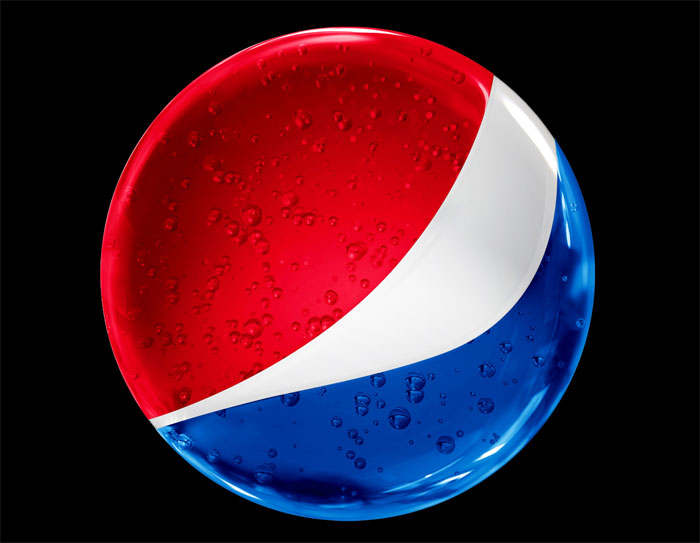pepsi: (88, 23, 595, 521), (97, 23, 595, 521)
